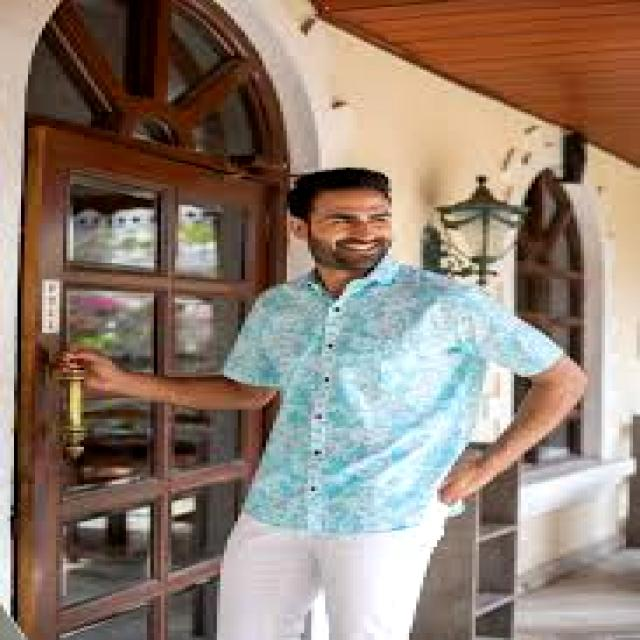face: (291, 189, 391, 272)
lower-wear: (217, 501, 447, 639)
top-wear: (224, 256, 563, 532)
